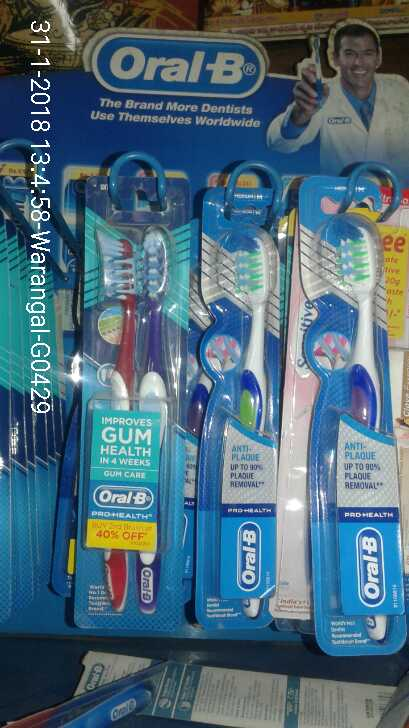oralb: (308, 191, 409, 662), (80, 222, 180, 618), (200, 218, 278, 606)
